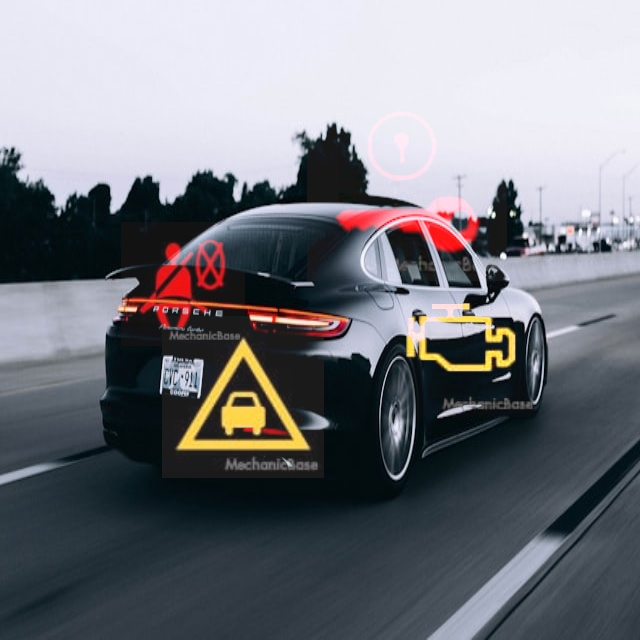symbol: (307, 81, 507, 281), (162, 316, 324, 478), (381, 259, 539, 417), (121, 222, 245, 346)
